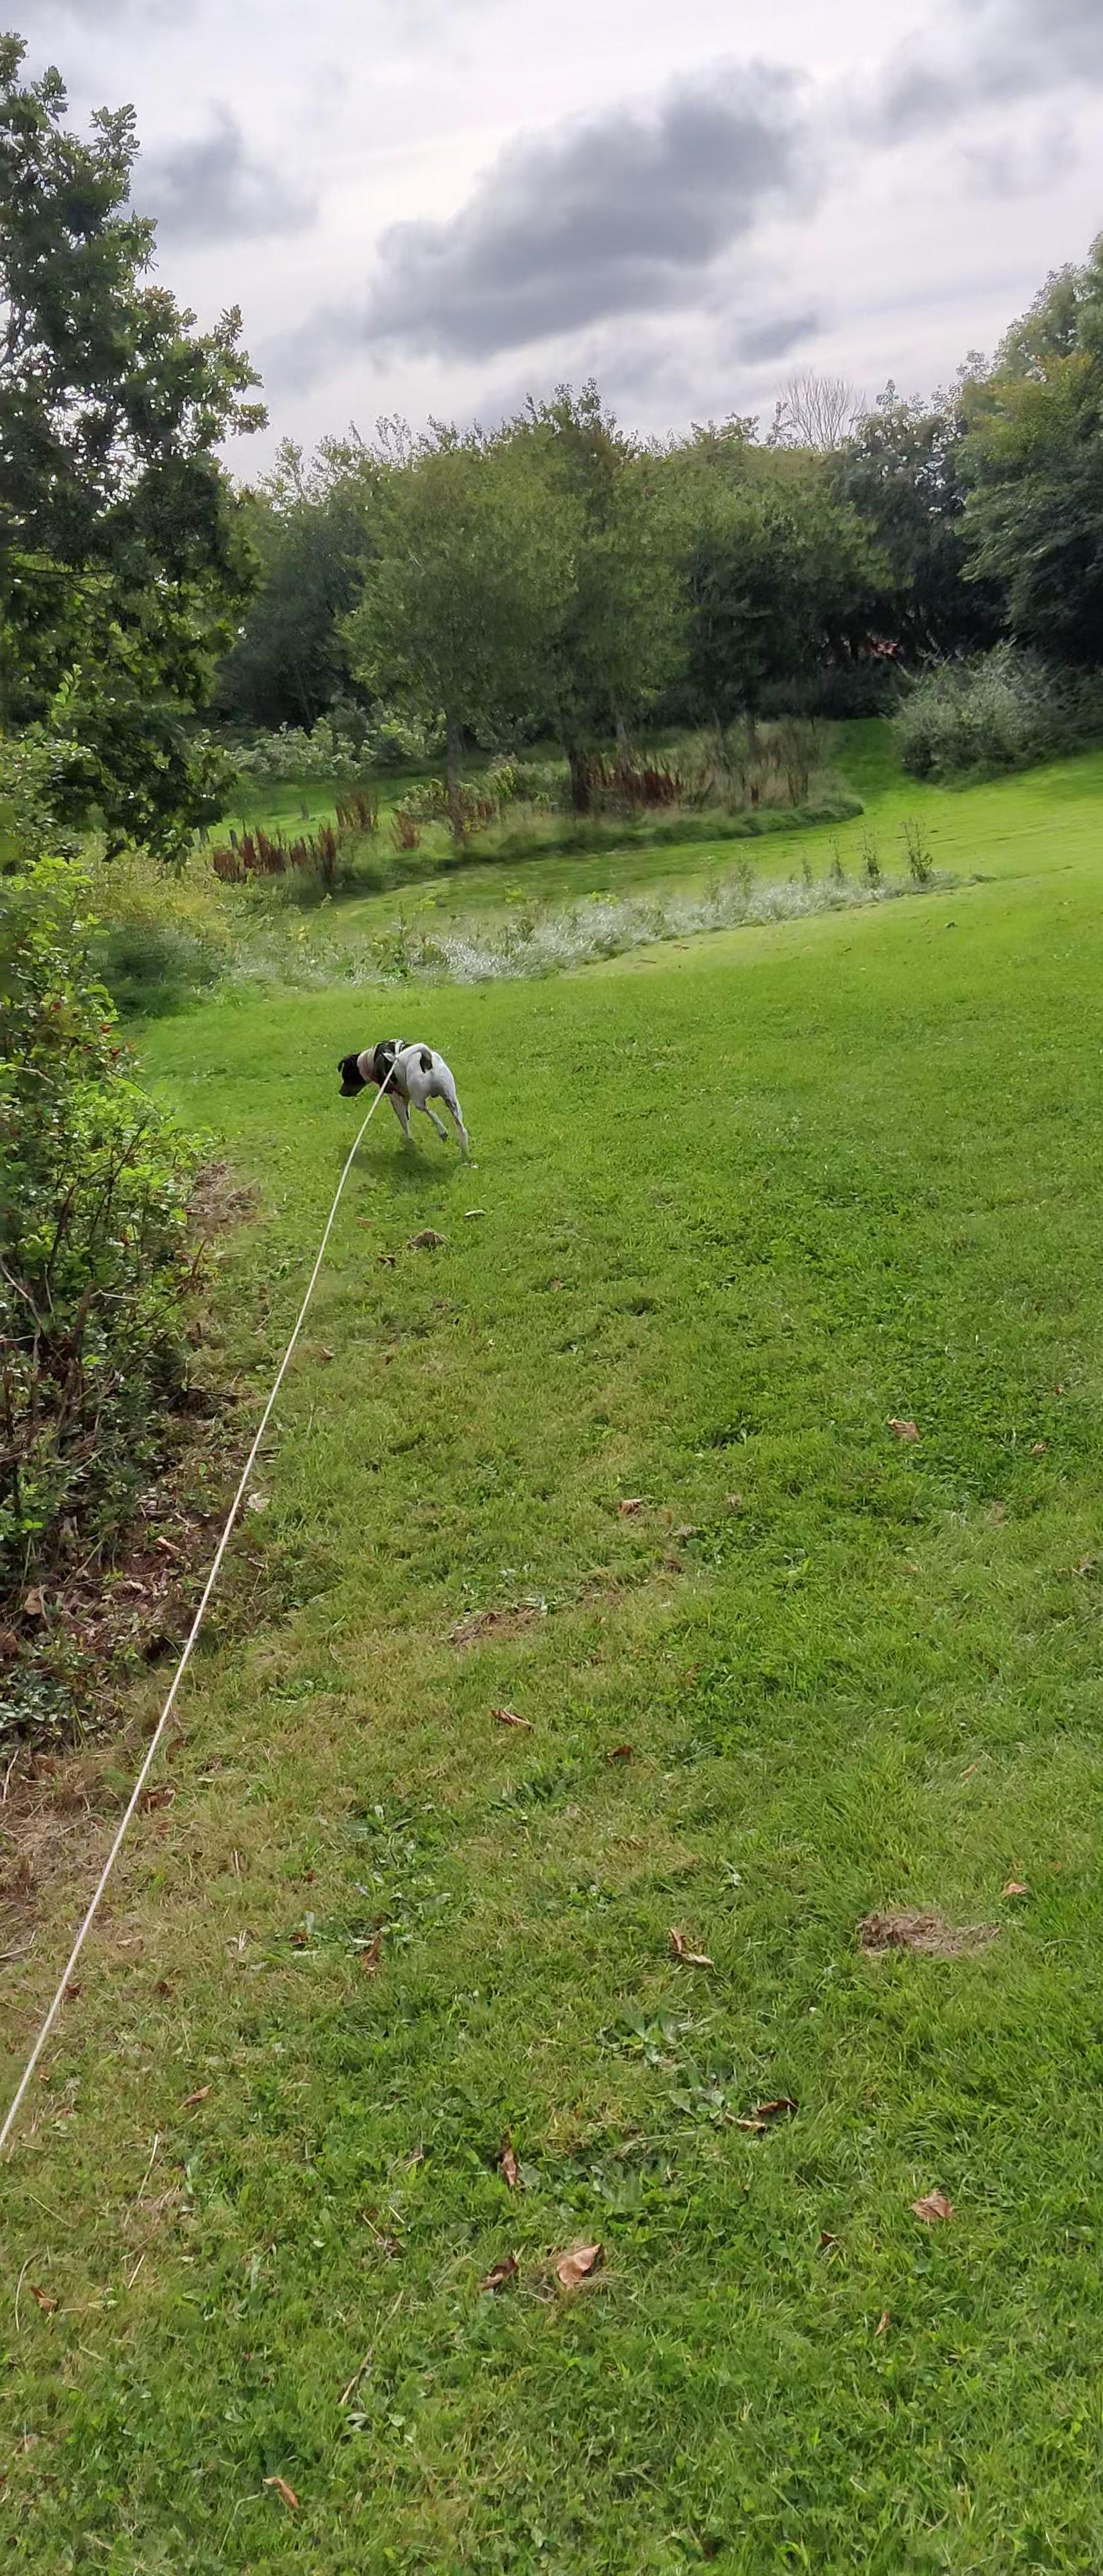Dog: (334, 1037, 480, 1165)
